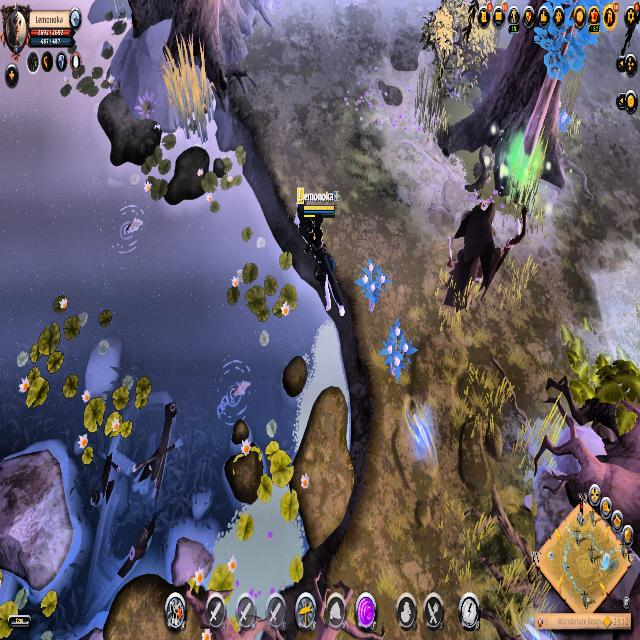fiber tier 4: (378, 318, 416, 383), (356, 254, 392, 314)
fish: (212, 356, 257, 428), (106, 198, 151, 262)
